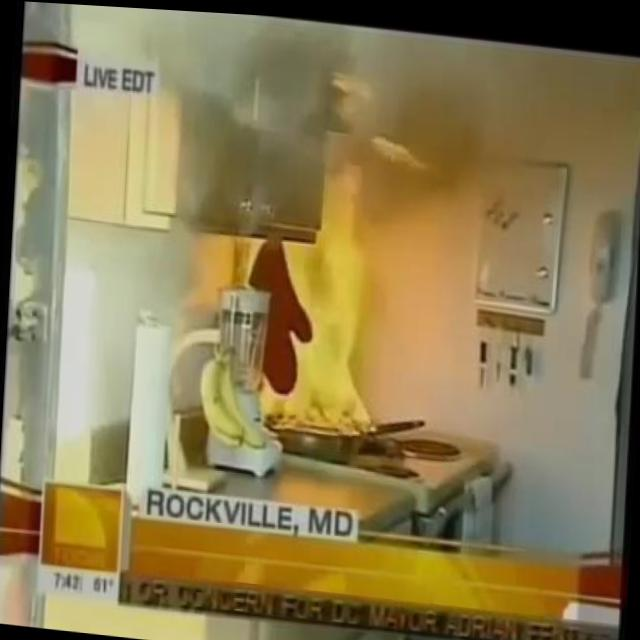fire: (268, 181, 388, 441)
